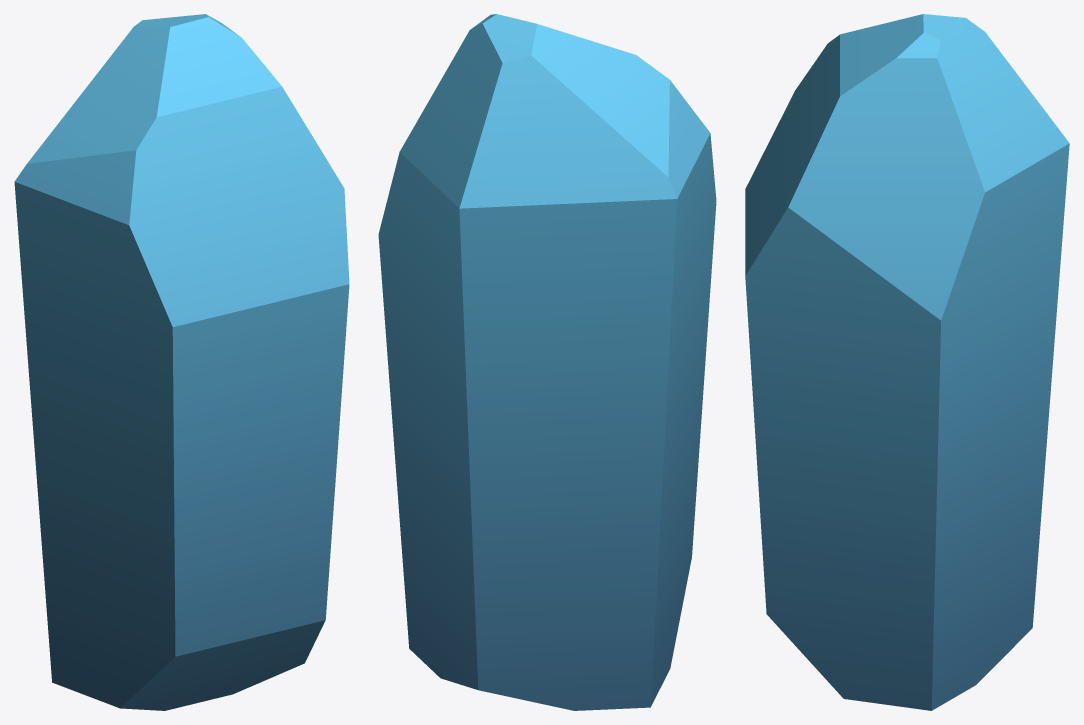
File: Crystal_01.fbx
3 views of the same model, side by side, from view 1: azimuth 30°, elevation 25°; view 2: azimuth 150°, elevation 25°; view 3: azimuth 270°, elevation 25° (orthographic). The views are drawn at different scales.
Visible parts, largest first — view 1: Crystal_01; view 2: Crystal_01; view 3: Crystal_01.
Boxes of the visible parts, left/top/right/bottom form: Crystal_01: left=14, top=14, right=349, bottom=710; Crystal_01: left=378, top=14, right=716, bottom=710; Crystal_01: left=745, top=14, right=1069, bottom=710.
Bounding box in the file's own units: 0.8444 × 1.83 × 0.8078.
